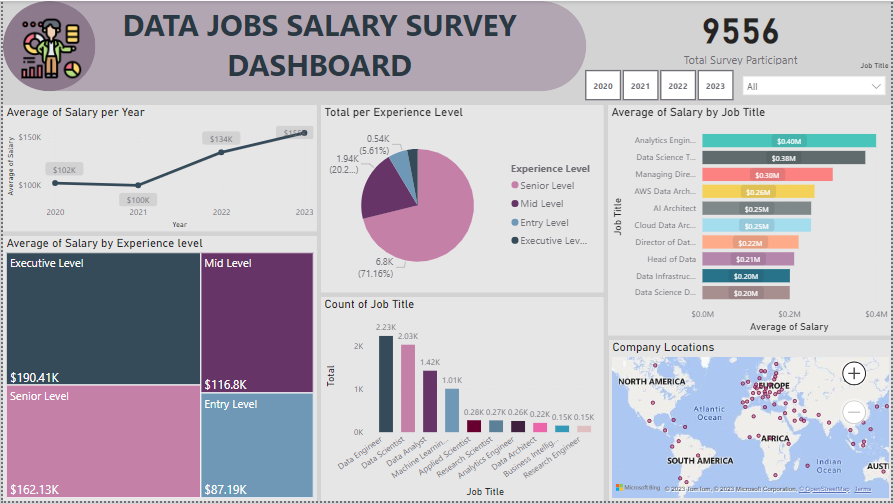

The page's visual inventory and layout, read from the dashboard file:
{"tool":"powerbi","page":{"name":"Page 1","canvas":[1280,720],"ordinal":0},"visuals":[{"type":"shape","box":[0,0,840,130],"z":0},{"type":"textbox","box":[70,0,770,131.7],"z":1000},{"type":"shape","box":[0,0,133.3,130],"z":2000},{"type":"image","box":[22,14,96,108],"z":3000},{"type":"card","fields":{"Values":["CountNonNull(Data_Jobs_Salary.experience_levels)"]},"box":[843.3,0,436.7,96.7],"z":4000},{"type":"map","fields":{"Category":["Data_Jobs_Salary.company_location"]},"box":[872,488,408,232],"z":5000},{"type":"barChart","title":"Average of Salary by Job Title ","fields":{"Category":["Data_Jobs_Salary.job_title"],"Y":["Avg(Data_Jobs_Salary.salary_in_usd)"],"Series":["Data_Jobs_Salary.job_title"]},"box":[871.8,150,408.2,331.8],"z":6000},{"type":"columnChart","title":"Count of Job Title","fields":{"Category":["Data_Jobs_Salary.job_title"],"Y":["CountNonNull(Data_Jobs_Salary.job_title)"],"Series":["Data_Jobs_Salary.job_title"]},"box":[458.2,426.4,407.3,293.6],"z":7000},{"type":"pieChart","title":"Total per Experience Level ","fields":{"Category":["Data_Jobs_Salary.experience_levels"],"Y":["CountNonNull(Data_Jobs_Salary.experience_levels)"]},"box":[458.2,150,407.3,270],"z":8000},{"type":"treemap","fields":{"Group":["Data_Jobs_Salary.experience_levels"],"Values":["Avg(Data_Jobs_Salary.salary_in_usd)"]},"box":[0,338.2,451.8,381.8],"z":9000},{"type":"lineChart","title":"Average of Salary per Year","fields":{"Category":["Data_Jobs_Salary.work_year"],"Y":["Avg(Data_Jobs_Salary.salary_in_usd)"]},"box":[0,150,452,182],"z":10000},{"type":"slicer","fields":{"Values":["Data_Jobs_Salary.work_year"]},"box":[812,92,264,58],"z":11000},{"type":"slicer","title":"Job Title","fields":{"Values":["Data_Jobs_Salary.job_title"]},"box":[1055,85.8,225,64.2],"z":12000}]}

Visuals, with their boxes in screenshot pixels (x1, y1, x2, y2), scaled from the page's 1280x720 canvas onto the 894x504 screenshot:
shape: [left=0, top=0, right=587, bottom=91]
textbox: [left=49, top=0, right=587, bottom=92]
shape: [left=0, top=0, right=93, bottom=91]
image: [left=15, top=10, right=82, bottom=85]
card - CountNonNull(Data_Jobs_Salary.experience_levels): [left=589, top=0, right=893, bottom=68]
map - Data_Jobs_Salary.company_location: [left=609, top=342, right=893, bottom=503]
"Average of Salary by Job Title " barChart: [left=609, top=105, right=893, bottom=337]
"Count of Job Title" columnChart: [left=320, top=298, right=604, bottom=503]
"Total per Experience Level " pieChart: [left=320, top=105, right=604, bottom=294]
treemap - Data_Jobs_Salary.experience_levels x Avg(Data_Jobs_Salary.salary_in_usd): [left=0, top=237, right=316, bottom=503]
"Average of Salary per Year" lineChart: [left=0, top=105, right=316, bottom=232]
slicer - Data_Jobs_Salary.work_year: [left=567, top=64, right=752, bottom=105]
"Job Title" slicer: [left=737, top=60, right=893, bottom=105]
